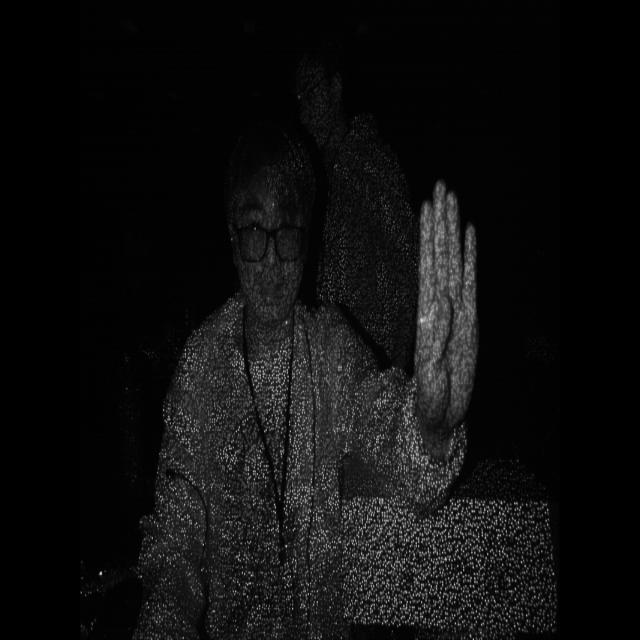B: (404, 166, 492, 438)
